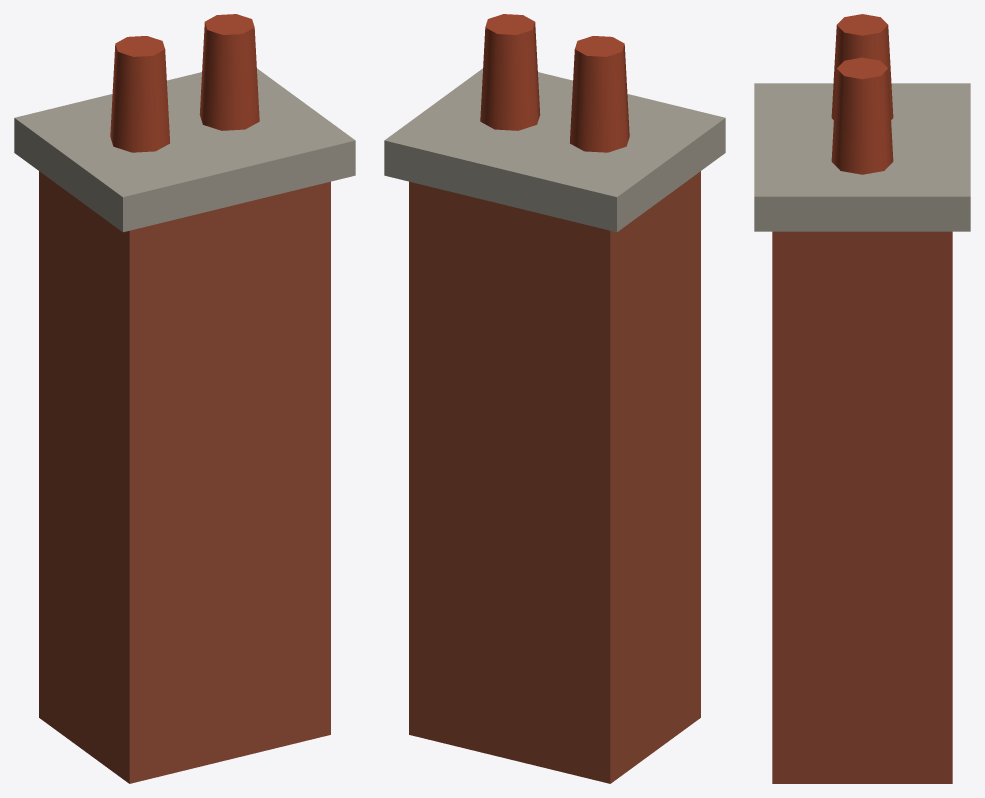
File: mv_chimney.glb
3 views of the same model, side by side, from view 1: azimuth 30°, elevation 25°; view 2: azimuth 150°, elevation 25°; view 3: azimuth 270°, elevation 25° (orthographic).
Visible parts, largest first — view 1: mv_chimney; view 2: mv_chimney; view 3: mv_chimney.
Part boxes in pixels (left/top/right/bottom): mv_chimney: left=14, top=14, right=355, bottom=783; mv_chimney: left=384, top=14, right=725, bottom=783; mv_chimney: left=754, top=14, right=970, bottom=783.
Size of the model in its own units: 1.04 by 2.95 by 0.84.
